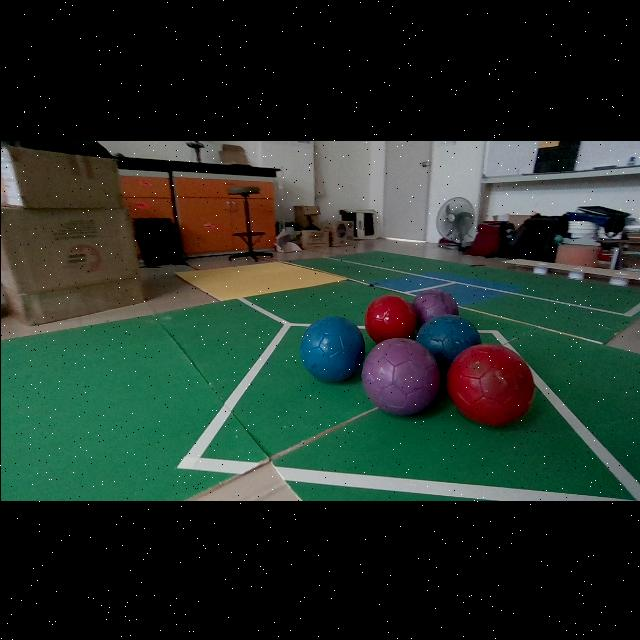B: (299, 315, 365, 382), (416, 313, 481, 375)
P: (361, 338, 439, 415), (412, 288, 457, 328)
R: (446, 343, 533, 424), (363, 293, 416, 342)
